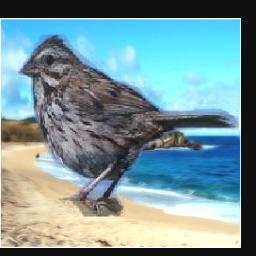Sparrow: (19, 30, 240, 216)
